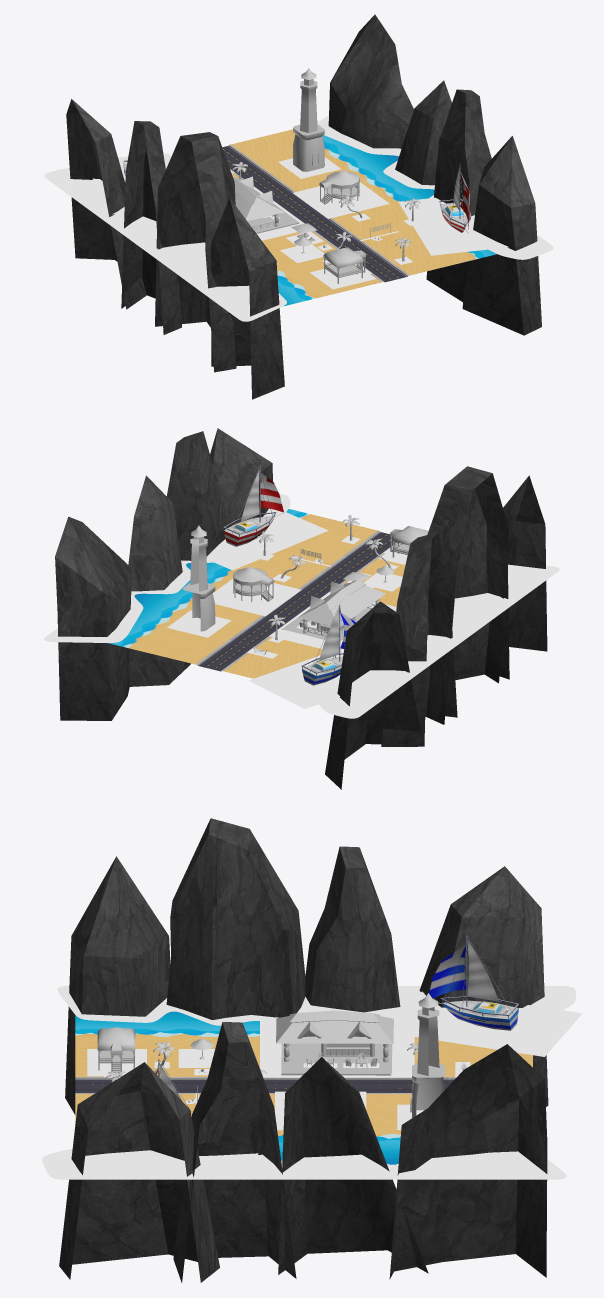
File: Beach_01.fbx
The picture shows the model from 3 angles, top to bottom: view 1: azimuth 30°, elevation 25°; view 2: azimuth 150°, elevation 25°; view 3: azimuth 270°, elevation 25°; orthographic projection. The views are drawn at different scales.
Parts seen in each view (by area): view 1: Beach_01; view 2: Beach_01; view 3: Beach_01.
Part boxes in pixels (box(x1,y1,x2,y2)): Beach_01: box(44, 14, 553, 399); Beach_01: box(44, 428, 559, 789); Beach_01: box(42, 818, 582, 1282).
Size of the model in its own units: 22617 by 13384 by 25170.
